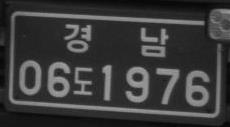0: (17, 59, 42, 95)
1: (97, 63, 116, 101)
6: (184, 68, 210, 108), (46, 60, 71, 99)
7: (154, 66, 180, 104)
9: (123, 65, 150, 104)
경남_D: (61, 22, 169, 60)
도: (71, 65, 94, 97)
